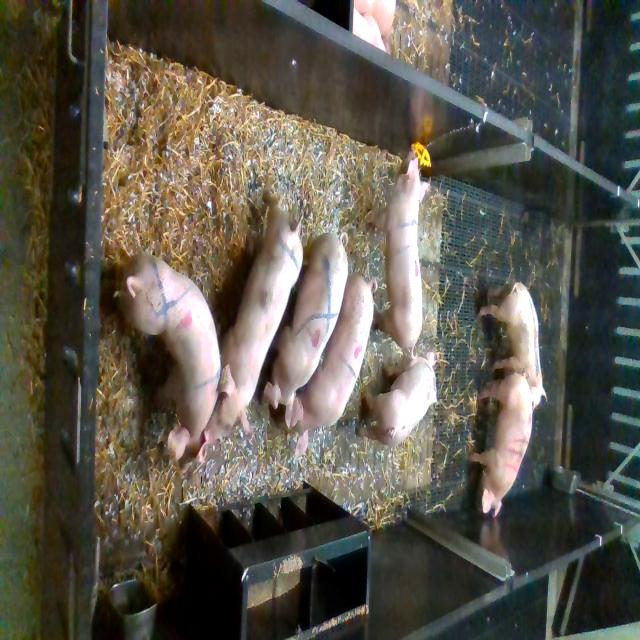pig: (203, 195, 304, 445), (113, 256, 222, 480), (263, 232, 349, 427), (290, 273, 378, 456), (375, 147, 431, 359), (469, 372, 532, 518), (479, 282, 548, 412), (355, 351, 438, 449)
